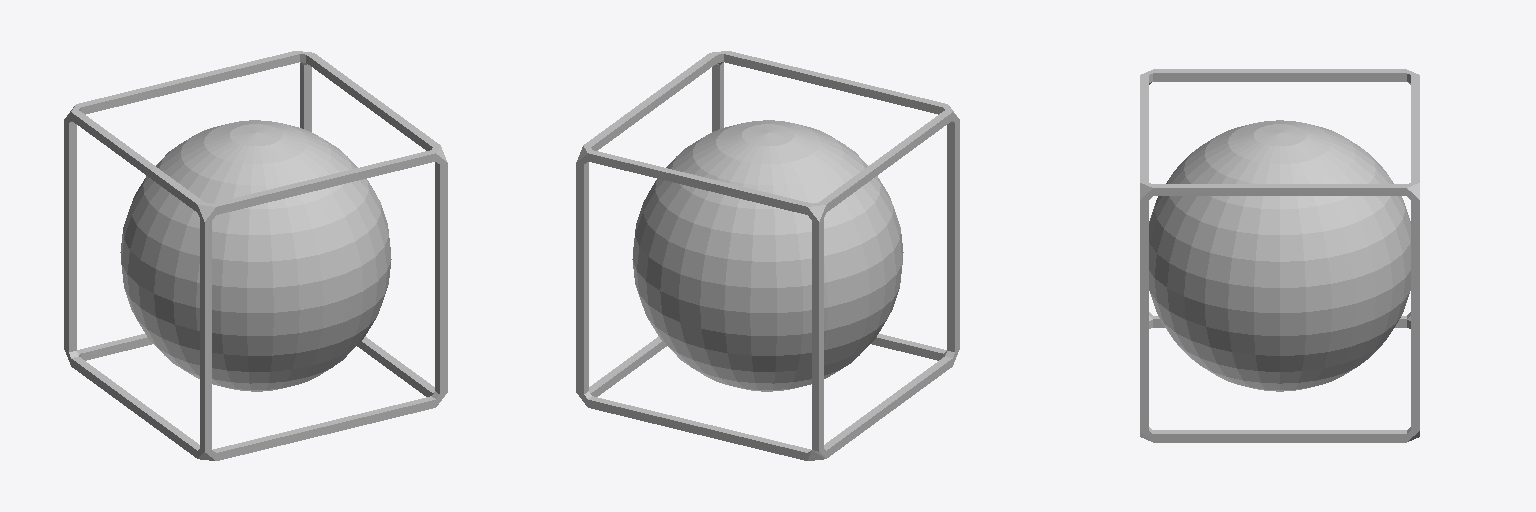
File: stage_0.obj
The picture shows the model from 3 angles: view 1: azimuth 30°, elevation 25°; view 2: azimuth 150°, elevation 25°; view 3: azimuth 270°, elevation 25°; orthographic projection.
Visible parts, largest first — view 1: Sphere, Cube_Cube.002; view 2: Sphere, Cube_Cube.002; view 3: Sphere, Cube_Cube.002.
Boxes of the visible parts, <box> form: Sphere: <box>120,120,391,391</box>; Cube_Cube.002: <box>64,51,447,460</box>; Sphere: <box>632,120,903,391</box>; Cube_Cube.002: <box>576,51,959,460</box>; Sphere: <box>1149,120,1410,391</box>; Cube_Cube.002: <box>1140,69,1419,442</box>.
Size of the model in its own units: 1.03 by 1.03 by 1.03.